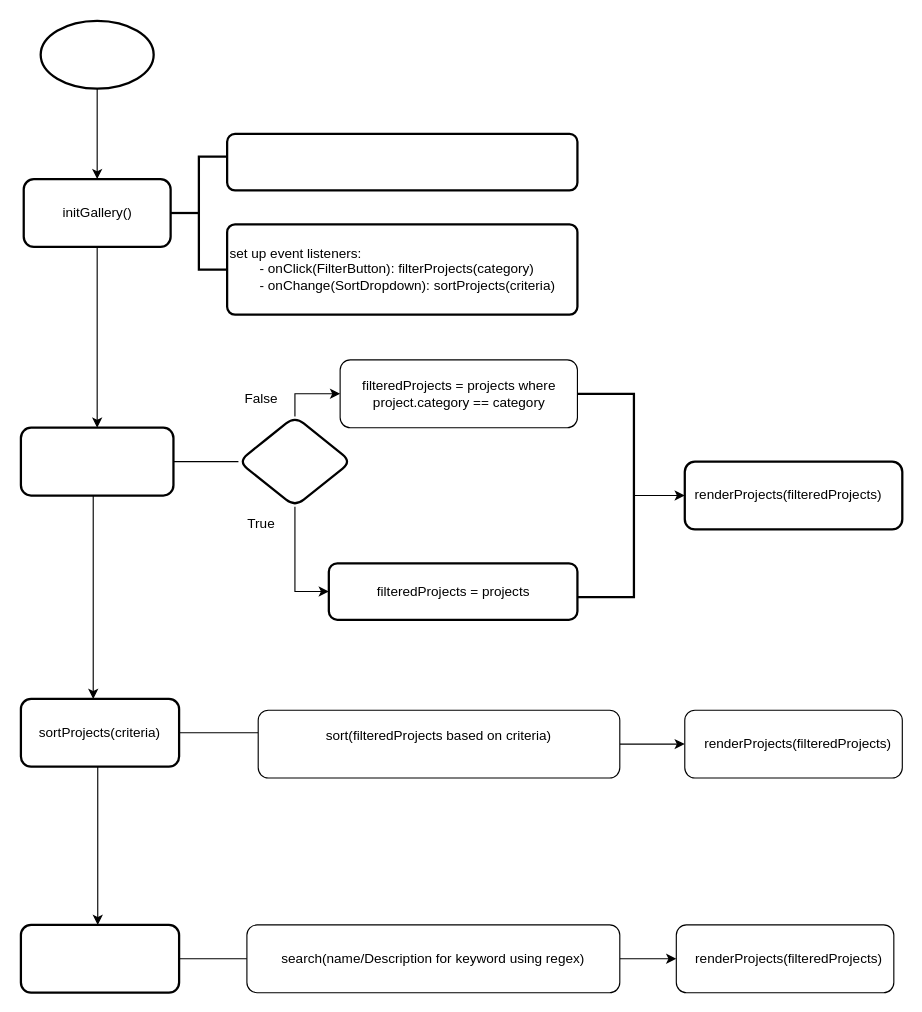
Image size: 922x1012. Some labels were removed from this diagram. Here are the shapes that lost their labels. From the top down, the centre of each, then its label:
At point 96,54: "Start".
At point 401,161: "renderProjects(projects) // Show all projects at first".
At point 96,461: "filterProjects(category)".
At point 294,461: "category == All".
At point 99,958: "searchProjects()".
